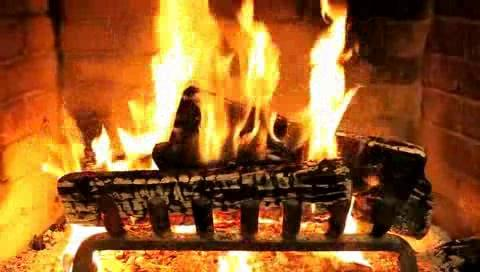fire: (27, 0, 480, 258)
